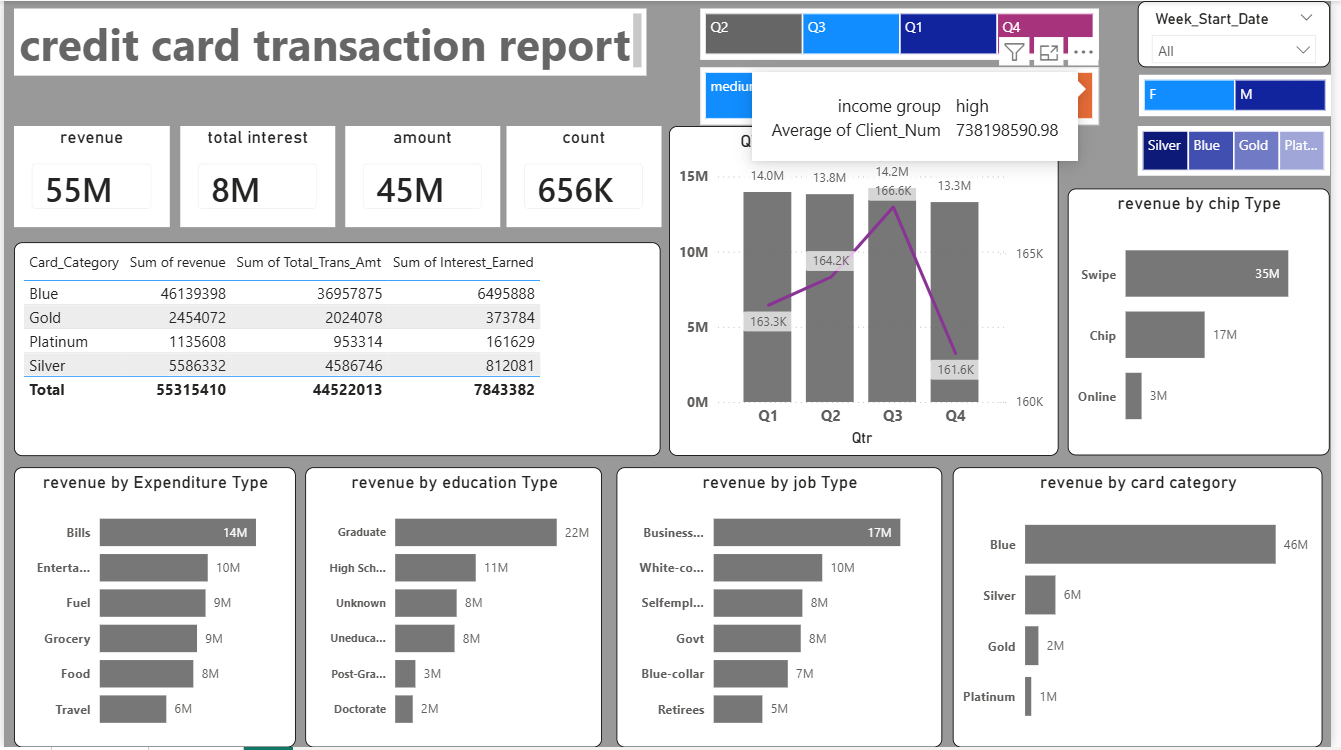

What the dashboard file says about the page in this screenshot:
{"tool":"powerbi","page":{"name":"Page 2","canvas":[1280,720],"ordinal":1},"visuals":[{"type":"textbox","box":[9.6,6.9,610.6,64.5],"z":0},{"type":"lineStackedColumnComboChart","title":"QTR revenue & total trans count","fields":{"Category":["credit_card (1).Qtr"],"Y":["Sum(credit_card (1).revenue)"],"Y2":["Sum(credit_card (1).Total_Trans_Vol)"]},"box":[642.2,120.8,376,318.4],"z":1000},{"type":"barChart","title":" revenue by Expenditure Type","fields":{"Y":["Sum(credit_card (1).revenue)"],"Category":["credit_card (1).Exp Type"]},"box":[9.6,450.1,271.7,270.3],"z":2000},{"type":"barChart","title":" revenue by education Type","fields":{"Y":["Sum(credit_card (1).revenue)"],"Category":["customer (1).Education_Level"]},"box":[290.9,450.1,286.8,270.3],"z":3000},{"type":"barChart","title":" revenue by job Type","fields":{"Y":["Sum(credit_card (1).revenue)"],"Category":["customer (1).Customer_Job"]},"box":[591.4,450.1,314.2,270.3],"z":4000},{"type":"barChart","title":" revenue by card category","fields":{"Y":["Sum(credit_card (1).revenue)"],"Category":["credit_card (1).Card_Category"]},"box":[915.3,450.1,356.8,270.3],"z":5000},{"type":"barChart","title":" revenue by chip Type","fields":{"Y":["Sum(credit_card (1).revenue)"],"Category":["credit_card (1).Use Chip"]},"box":[1026.4,181.1,252.5,258],"z":6000},{"type":"tableEx","fields":{"Values":["credit_card (1).Card_Category","Sum(credit_card (1).revenue)","Sum(credit_card (1).Total_Trans_Amt)","Sum(credit_card (1).Interest_Earned)"]},"box":[10.2,232.3,624.2,206.1],"z":7000},{"type":"cardVisual","title":"revenue","fields":{"Data":["Sum(credit_card (1).revenue)"]},"box":[10.2,120.5,150,97.3],"z":8000},{"type":"cardVisual","title":"amount","fields":{"Data":["Sum(credit_card (1).Total_Trans_Amt)"]},"box":[329.5,120.5,149.5,97.3],"z":9000},{"type":"cardVisual","title":"total interest","fields":{"Data":["Sum(credit_card (1).Interest_Earned)"]},"box":[169.8,120.5,149.5,97.3],"z":10000},{"type":"cardVisual","title":"count","fields":{"Data":["Sum(credit_card (1).Total_Trans_Vol)"]},"box":[484.8,120.5,149.5,97.3],"z":11000},{"type":"slicer","fields":{"Values":["credit_card (1).Week_Start_Date"]},"box":[1094.5,0,185.8,63.9],"z":12000},{"type":"treemap","fields":{"Group":["credit_card (1).Qtr"],"Values":["CountNonNull(credit_card (1).Client_Num)"]},"box":[672.1,7.3,384.7,49.4],"z":13000},{"type":"treemap","fields":{"Group":["customer (1).Gender"],"Values":["Avg(credit_card (1).Client_Num)"]},"box":[1095,71.4,185.2,39.8],"z":14000},{"type":"treemap","fields":{"Group":["credit_card (1).Card_Category"],"Values":["Avg(credit_card (1).Client_Num)"]},"box":[1093.7,120.8,185.2,48],"z":15000},{"type":"treemap","fields":{"Group":["customer (1).income group"],"Values":["Avg(credit_card (1).Client_Num)"]},"box":[672.4,64.5,384.2,54.9],"z":16000}]}

Visuals, with their boxes in screenshot pixels (x1, y1, x2, y2), scaled from the page's 1280x720 canvas onto the 1341x750 screenshot:
textbox: box(10, 7, 650, 74)
"QTR revenue & total trans count" lineStackedColumnComboChart: box(673, 126, 1067, 458)
" revenue by Expenditure Type" barChart: box(10, 469, 295, 749)
" revenue by education Type" barChart: box(305, 469, 605, 749)
" revenue by job Type" barChart: box(620, 469, 949, 749)
" revenue by card category" barChart: box(959, 469, 1333, 749)
" revenue by chip Type" barChart: box(1075, 189, 1340, 457)
tableEx - credit_card (1).Card_Category x Sum(credit_card (1).revenue): box(11, 242, 665, 457)
"revenue" cardVisual: box(11, 126, 168, 227)
"amount" cardVisual: box(345, 126, 502, 227)
"total interest" cardVisual: box(178, 126, 335, 227)
"count" cardVisual: box(508, 126, 665, 227)
slicer - credit_card (1).Week_Start_Date: box(1147, 0, 1340, 67)
treemap - credit_card (1).Qtr x CountNonNull(credit_card (1).Client_Num): box(704, 8, 1107, 59)
treemap - customer (1).Gender x Avg(credit_card (1).Client_Num): box(1147, 74, 1340, 116)
treemap - credit_card (1).Card_Category x Avg(credit_card (1).Client_Num): box(1146, 126, 1340, 176)
treemap - customer (1).income group x Avg(credit_card (1).Client_Num): box(704, 67, 1107, 124)
